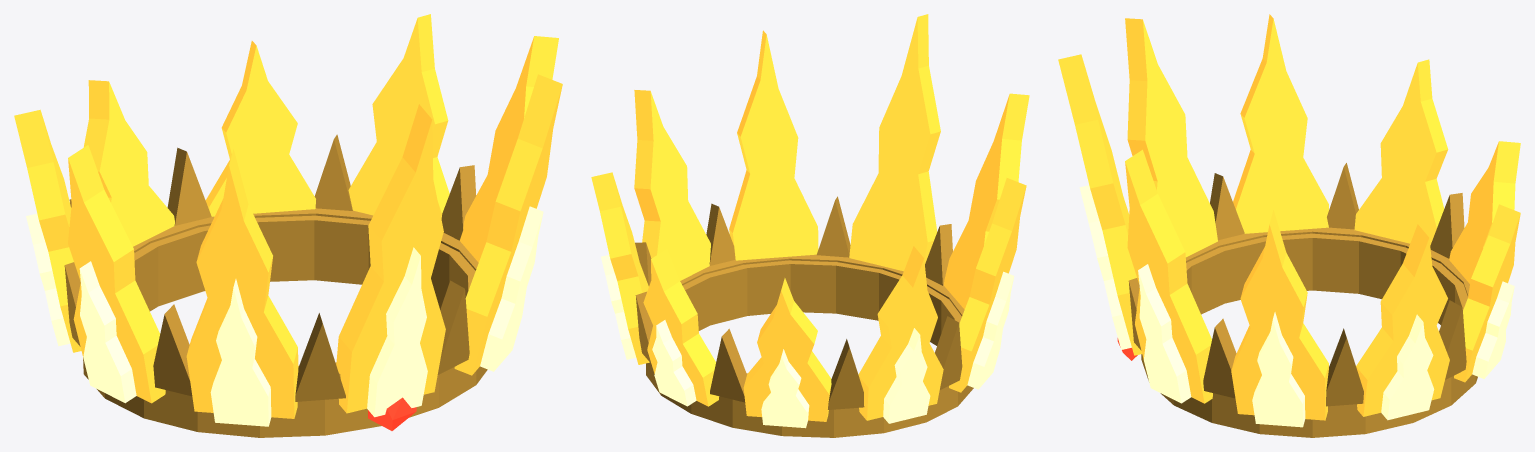
Rendered from S4_Fire_Crown.fbx.
The picture shows the model from 3 angles, left to right: view 1: azimuth 30°, elevation 25°; view 2: azimuth 150°, elevation 25°; view 3: azimuth 270°, elevation 25°; orthographic projection. The views are drawn at different scales.
Parts seen in each view (by area): view 1: S4_Fire_Crown; view 2: S4_Fire_Crown; view 3: S4_Fire_Crown.
Boxes of the visible parts, x1=… form: S4_Fire_Crown: x1=14, y1=14, x2=562, y2=437; S4_Fire_Crown: x1=591, y1=14, x2=1029, y2=437; S4_Fire_Crown: x1=1058, y1=14, x2=1520, y2=437.
Size of the model in its own units: 0.7271 by 0.4936 by 0.6763.
